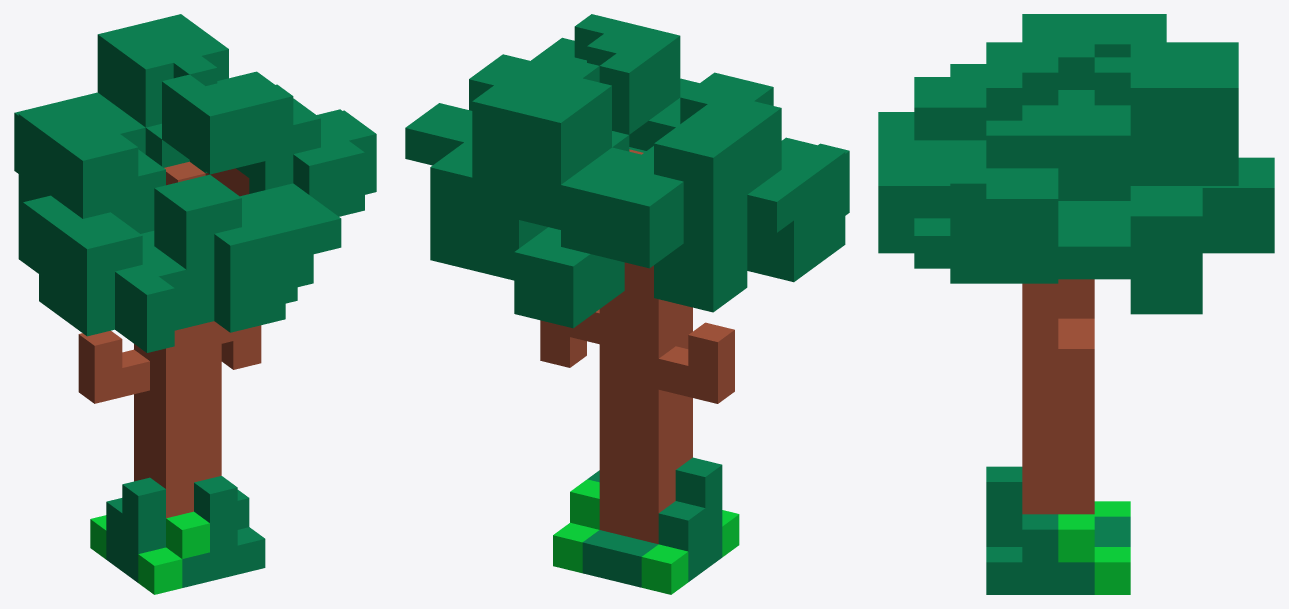
The model's file is Tree 01.obj.
The picture shows the model from 3 angles, left to right: view 1: azimuth 30°, elevation 25°; view 2: azimuth 150°, elevation 25°; view 3: azimuth 270°, elevation 25°; orthographic projection. The views are drawn at different scales.
Size of the model in its own units: 1.2 by 1.6 by 1.1.
1 material, 1 textured.
